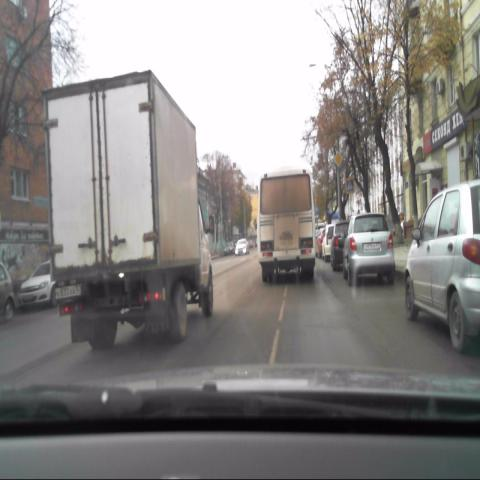2_1: (333, 151, 342, 167)
5_19_1: (345, 180, 354, 194)
